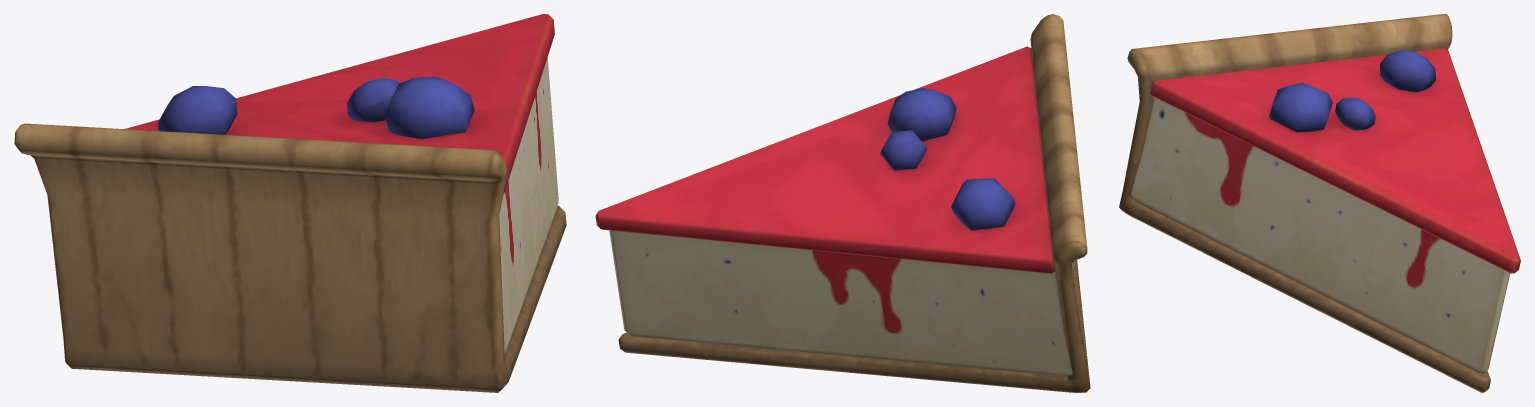
The model's file is cake.glb.
The picture shows the model from 3 angles, left to right: view 1: azimuth 30°, elevation 25°; view 2: azimuth 150°, elevation 25°; view 3: azimuth 270°, elevation 25°; orthographic projection. The views are drawn at different scales.
Parts seen in each view (by area): view 1: Cake_lambert1_0; view 2: Cake_lambert1_0; view 3: Cake_lambert1_0.
Boxes of the visible parts, box(x1,y1,x2,y2) form: Cake_lambert1_0: box(14, 14, 566, 392); Cake_lambert1_0: box(595, 14, 1090, 392); Cake_lambert1_0: box(1119, 14, 1520, 392).
Size of the model in its own units: 0.2525 by 0.1381 by 0.2122.
1 material, 1 textured.
